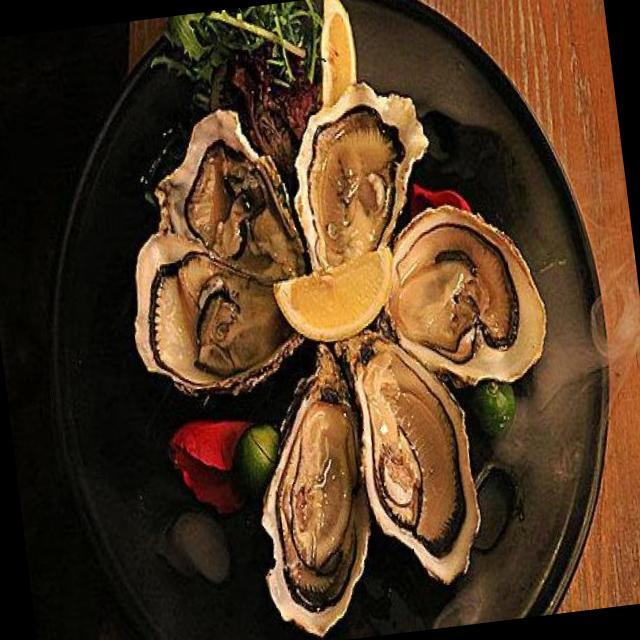Oyster-Open: (342, 313, 497, 602), (236, 342, 384, 640), (119, 210, 326, 412), (371, 187, 557, 400), (142, 92, 315, 305), (279, 66, 448, 281)
